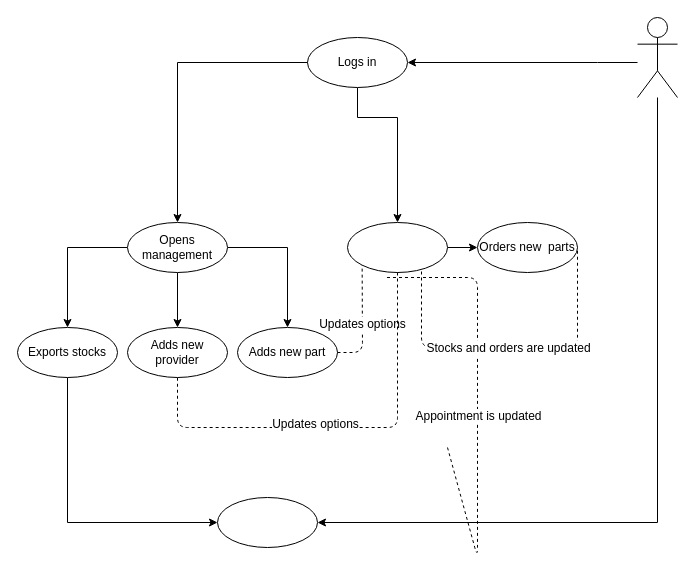
The diagram is 695 pixels wide and 576 high, and some of its shapes have lost their labels. The shapes that lost their labels are listed below. From the top down, each one's box as (x1, y1, x2, y2) in pixels, then its label:
(636, 16, 678, 98): Admin
(346, 222, 448, 272): Views stocks and orders
(216, 496, 318, 548): Views exported data
